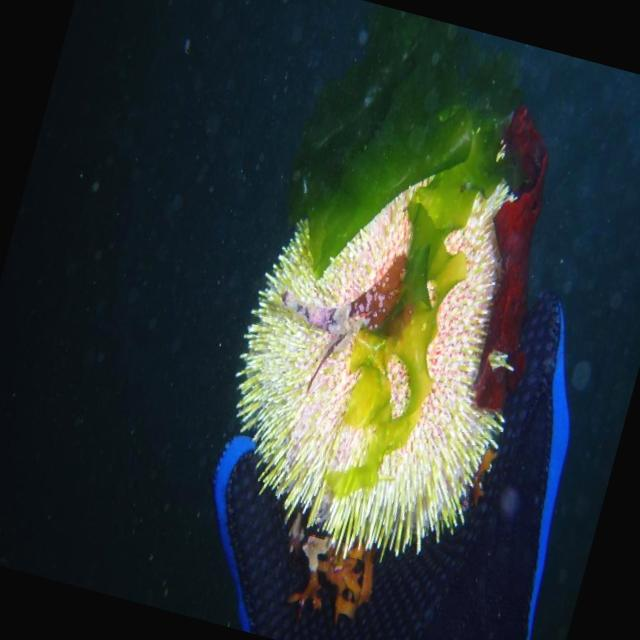Deniz Kestanesi: (194, 58, 585, 592)
